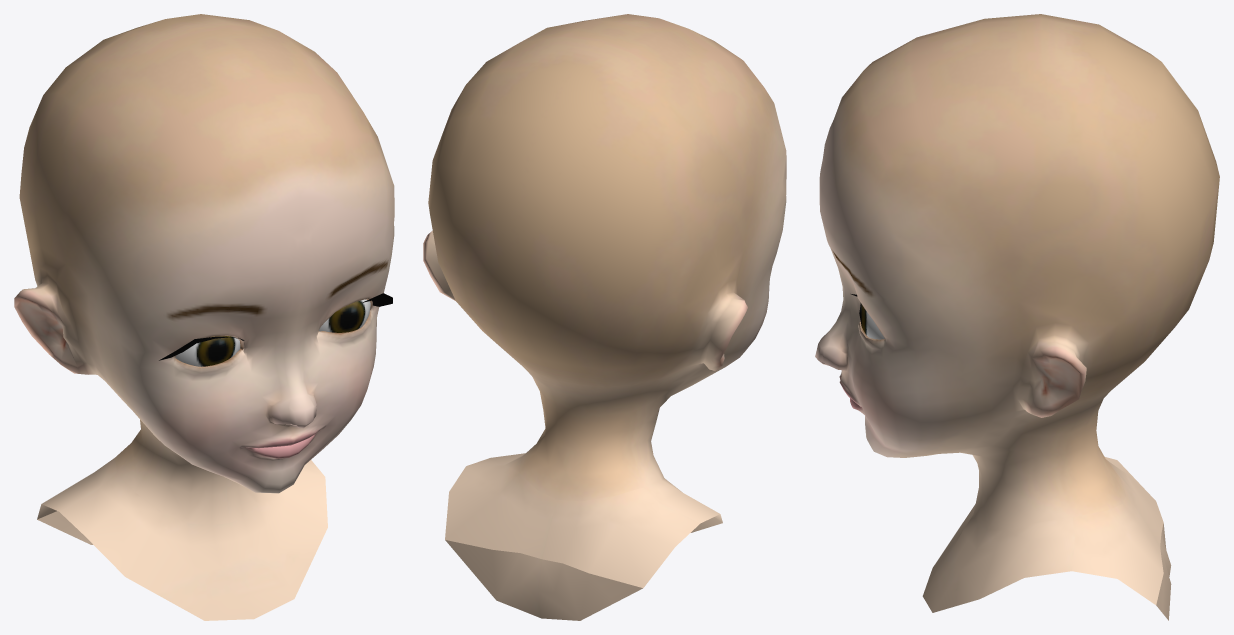
The model's file is ZERO.fbx.
3 renders of one model, left to right at view 1: azimuth 30°, elevation 25°; view 2: azimuth 150°, elevation 25°; view 3: azimuth 270°, elevation 25°, orthographic. The views are drawn at different scales.
Parts seen in each view (by area): view 1: Boy_Kid01_head, Boy_Kid01_Eyes2, Boy_Kid01_Eyes1, Eyelashes; view 2: Boy_Kid01_head; view 3: Boy_Kid01_head.
Part boxes in pixels (x1,y1,x2,y2): Boy_Kid01_head: (14, 14, 394, 620); Boy_Kid01_Eyes2: (175, 336, 240, 366); Boy_Kid01_Eyes1: (319, 299, 370, 332); Eyelashes: (159, 293, 392, 360); Boy_Kid01_head: (423, 14, 786, 620); Boy_Kid01_head: (815, 14, 1219, 620).
Size of the model in its own units: 23.28 by 37.42 by 23.81.
Materials: 1 (1 with a texture image).
